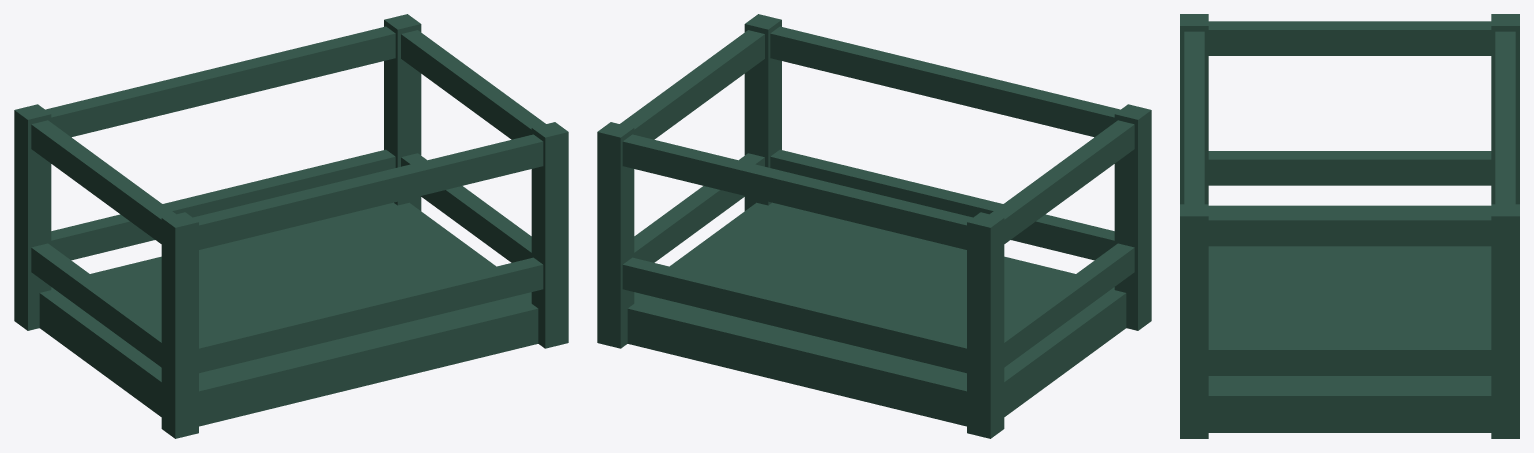
The picture shows the model from 3 angles, left to right: view 1: azimuth 30°, elevation 25°; view 2: azimuth 150°, elevation 25°; view 3: azimuth 270°, elevation 25°; orthographic projection. The views are drawn at different scales.
Parts seen in each view (by area): view 1: a43; view 2: a43; view 3: a43.
Boxes of the visible parts, left/top/right/bottom form: a43: left=14, top=14, right=568, bottom=438; a43: left=597, top=14, right=1151, bottom=438; a43: left=1180, top=14, right=1519, bottom=438.
Bounding box in the file's own units: 0.585 × 0.3 × 0.415.
